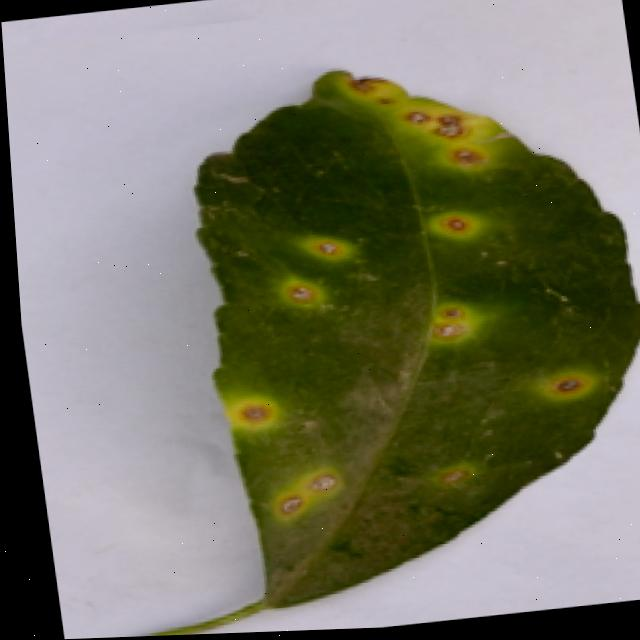canker: (171, 77, 640, 635), (316, 41, 511, 195), (257, 464, 360, 521), (413, 284, 478, 360), (269, 264, 324, 322), (528, 363, 606, 403), (223, 391, 285, 439), (419, 203, 479, 252), (304, 222, 347, 266), (420, 461, 468, 492)
